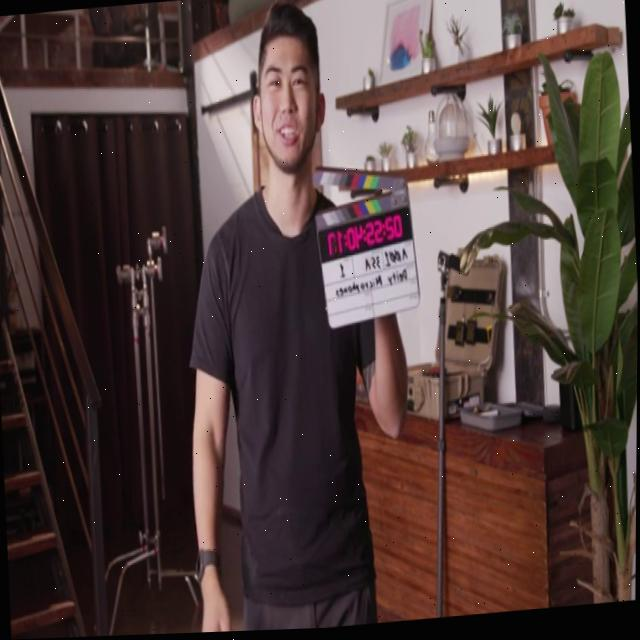Clapperboard: (315, 156, 423, 333)
